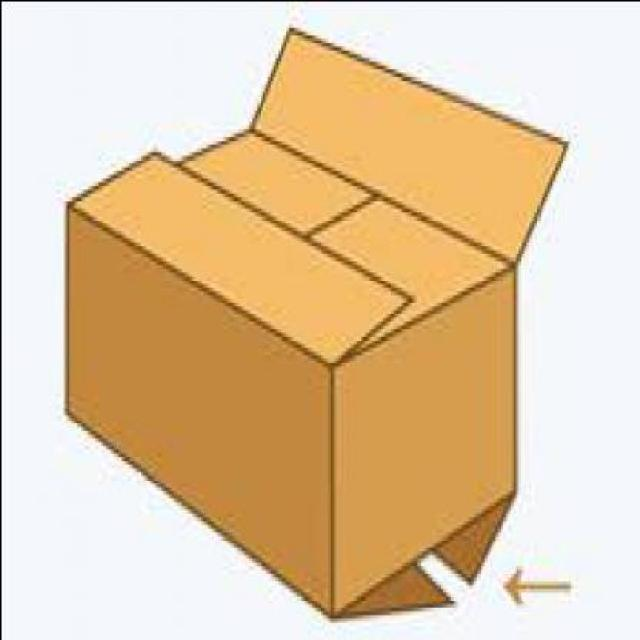CARDBOARD: (65, 15, 570, 614)
